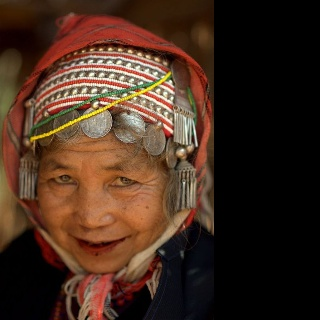without_mask: (35, 129, 173, 273)
